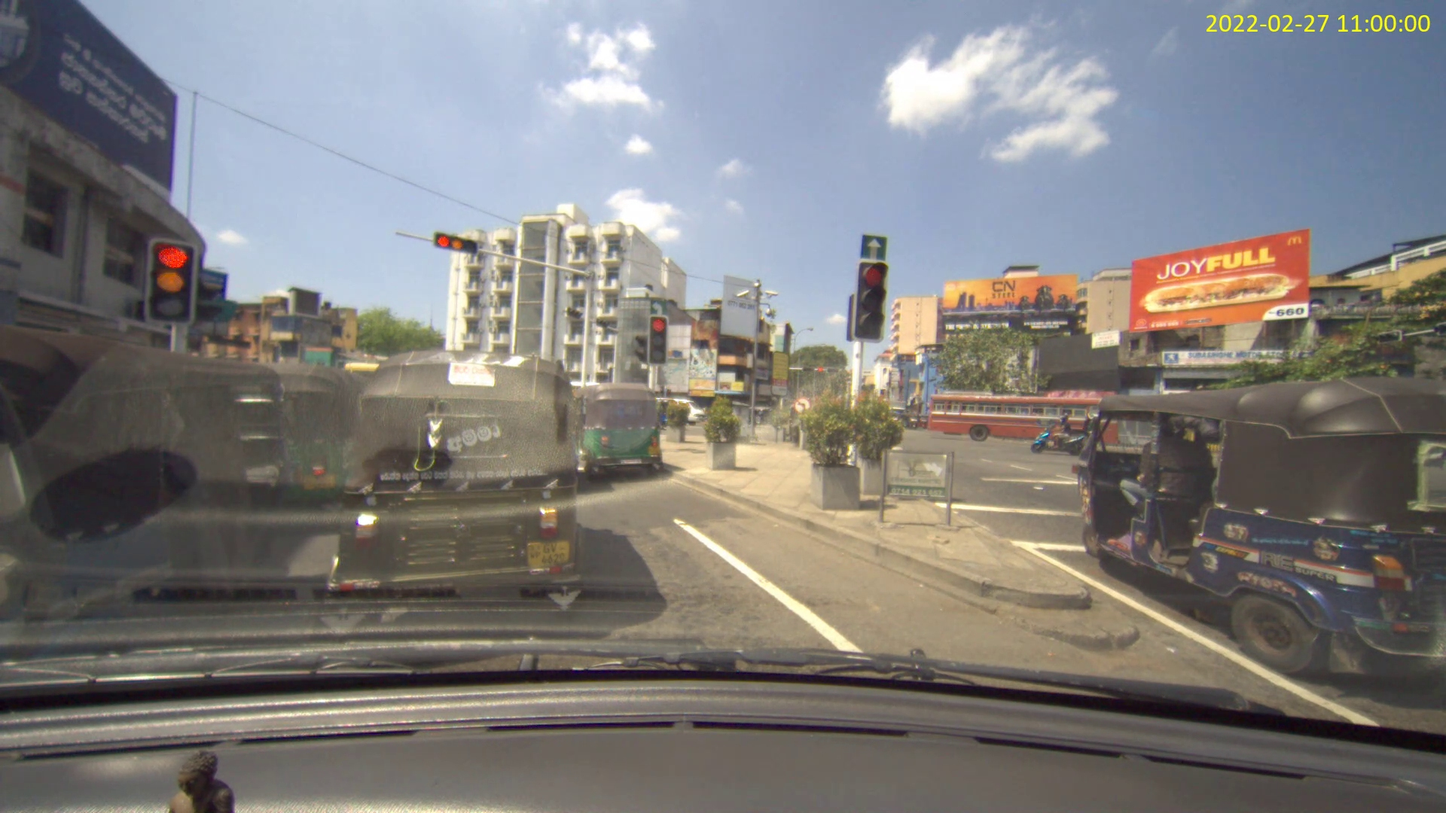Red: (851, 258, 889, 343), (646, 315, 667, 364)
Red-Yellow: (144, 237, 197, 325), (432, 231, 478, 254)
